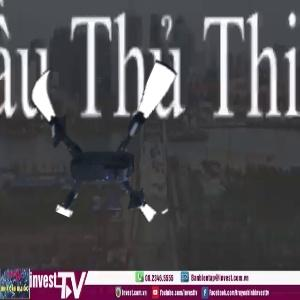drone: (18, 45, 200, 227)
